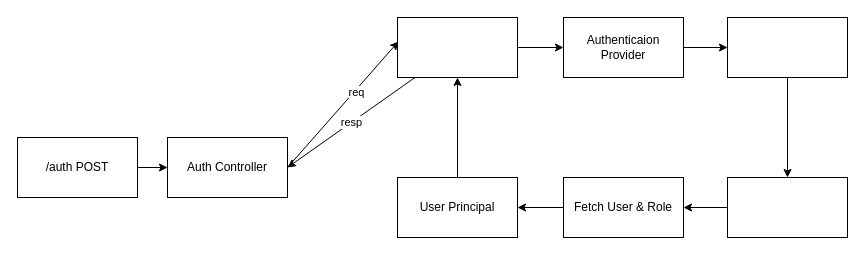
This 865x255 diagram has some shape labels left out. Each missing label, with the centre of its shape:
AuthManager: point 457,47
Custom User Details Service: point 787,207
Dao Auth Provider: point 787,47
